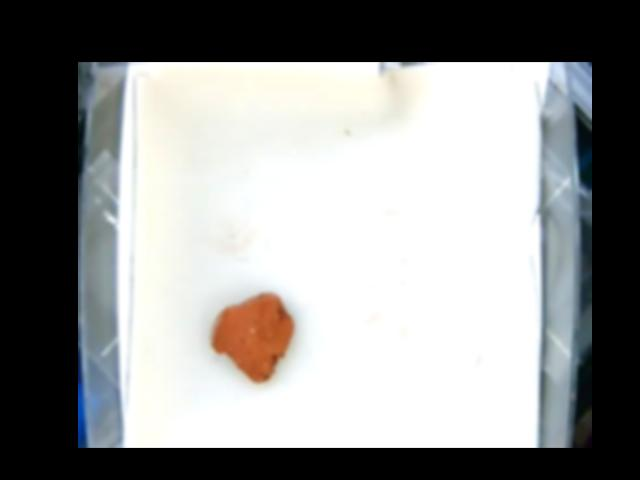Brisk: (209, 294, 293, 383)
